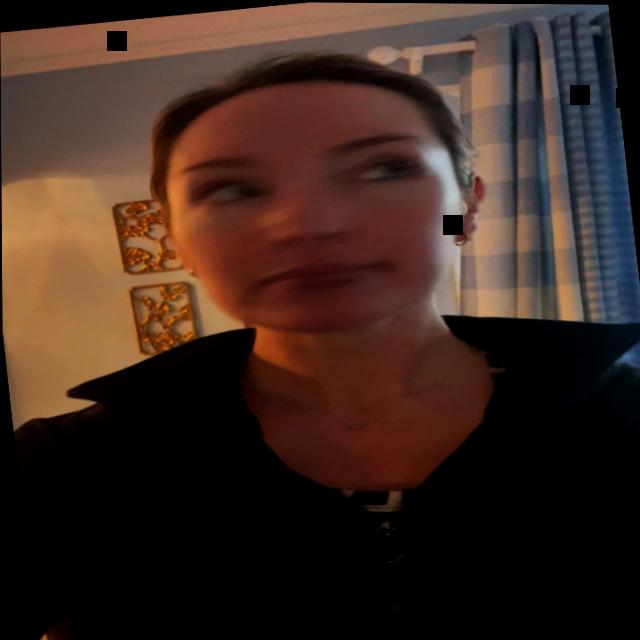NO-Mask: (134, 54, 497, 373)
